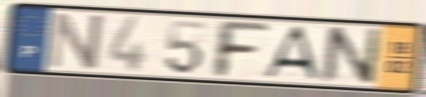4: (106, 13, 152, 75)
5: (164, 18, 211, 75)
A: (260, 24, 324, 82)
F: (213, 17, 273, 80)
N: (319, 25, 385, 86), (45, 10, 107, 71)
